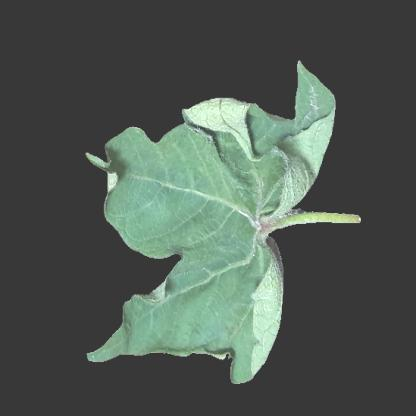curl_stage2: (205, 130, 309, 196), (207, 261, 277, 338), (196, 102, 240, 182)
healthy: (119, 171, 186, 242), (154, 297, 201, 349)
